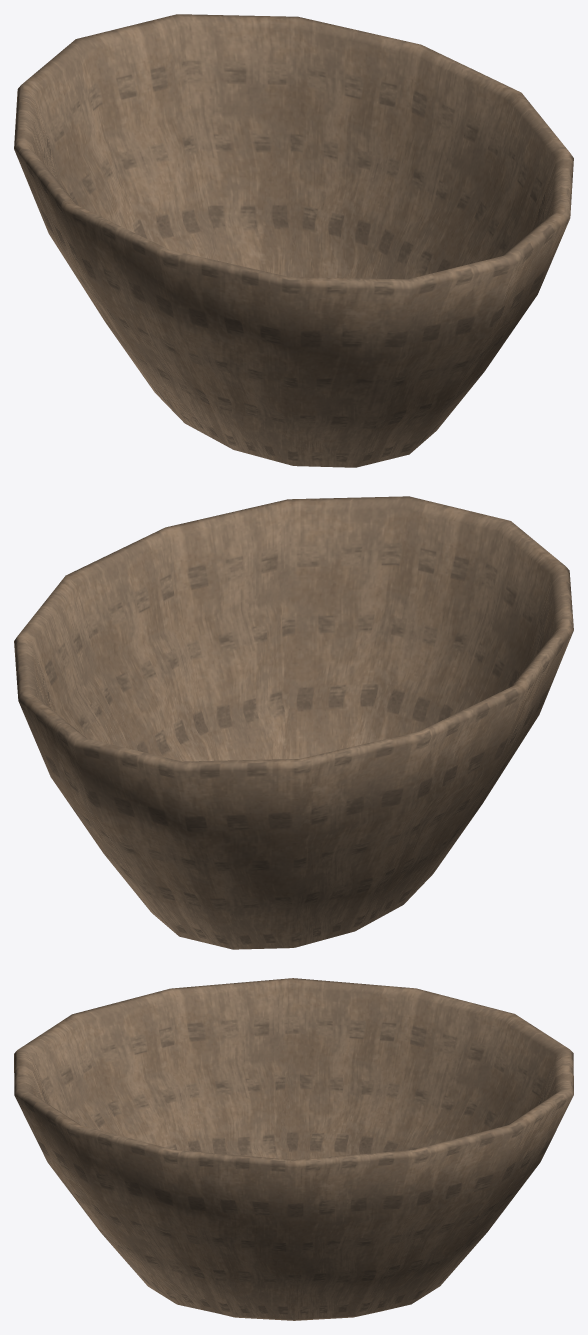
File: basket.fbx
The picture shows the model from 3 angles, top to bottom: view 1: azimuth 30°, elevation 25°; view 2: azimuth 150°, elevation 25°; view 3: azimuth 270°, elevation 25°; orthographic projection. The views are drawn at different scales.
Parts seen in each view (by area): view 1: Basket; view 2: Basket; view 3: Basket.
Boxes of the visible parts, <box> form: Basket: <box>14,14,573,467</box>; Basket: <box>14,496,573,949</box>; Basket: <box>14,978,573,1320</box>.
Size of the model in its own units: 153 by 84.45 by 194.
1 material, 1 textured.
